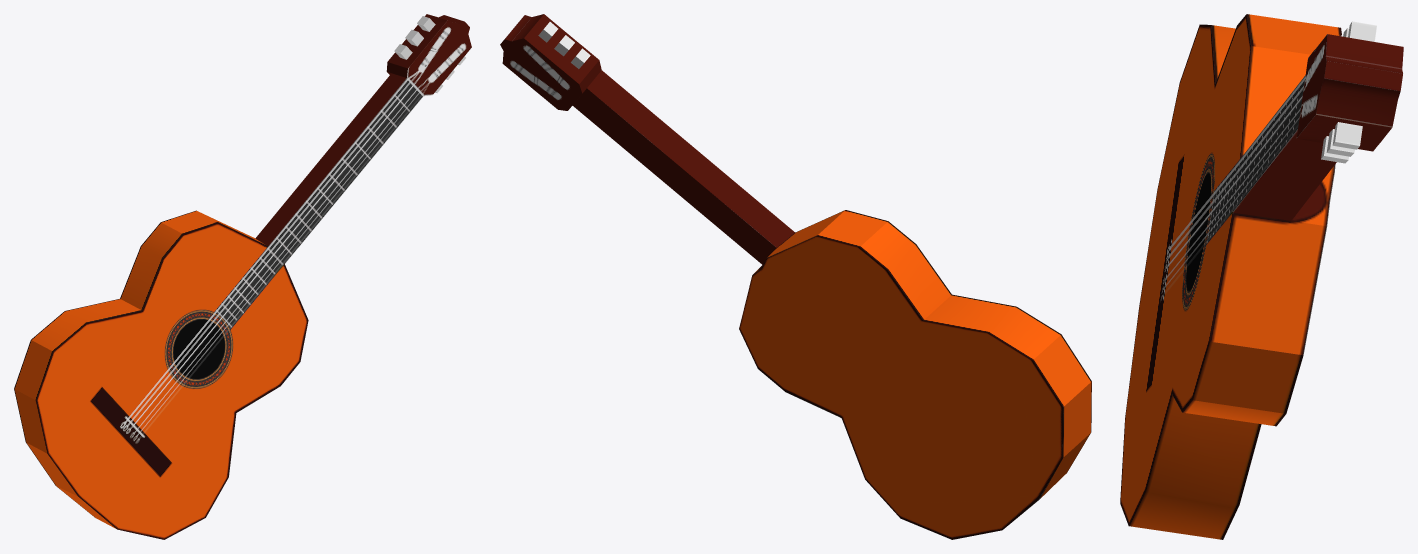
File: Guitarra2_000010.obj
3 renders of one model, left to right at view 1: azimuth 30°, elevation 25°; view 2: azimuth 150°, elevation 25°; view 3: azimuth 270°, elevation 25°, orthographic. The views are drawn at different scales.
Parts seen in each view (by area): view 1: g2_pPlane4.001; view 2: g2_pPlane4.001; view 3: g2_pPlane4.001.
Part boxes in pixels (x1,y1,x2,y2): g2_pPlane4.001: [14, 14, 471, 539]; g2_pPlane4.001: [500, 14, 1091, 539]; g2_pPlane4.001: [1120, 14, 1403, 539].
Size of the model in its own units: 10.67 by 8.81 by 2.8.
